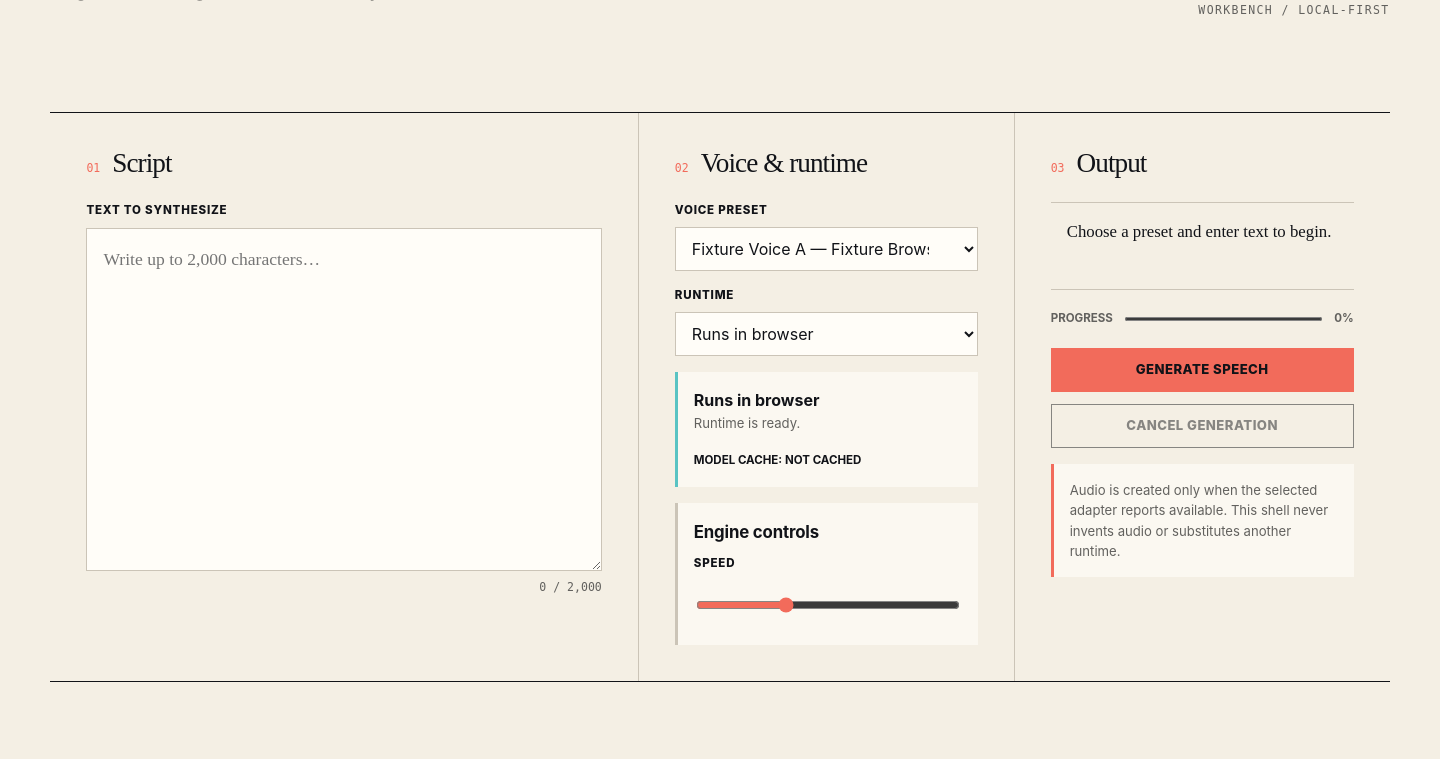
Test: managed output URL lifecycle › clears and revokes an old output before a new operation that is cancelled
(page scrolled)
expect the text "Runtime is ready." is shown: met, box [694, 415, 800, 431]
Type "Cancel later." into the text box labelled "Text to synthesize". click: (344, 400)
box: [86, 228, 602, 571]
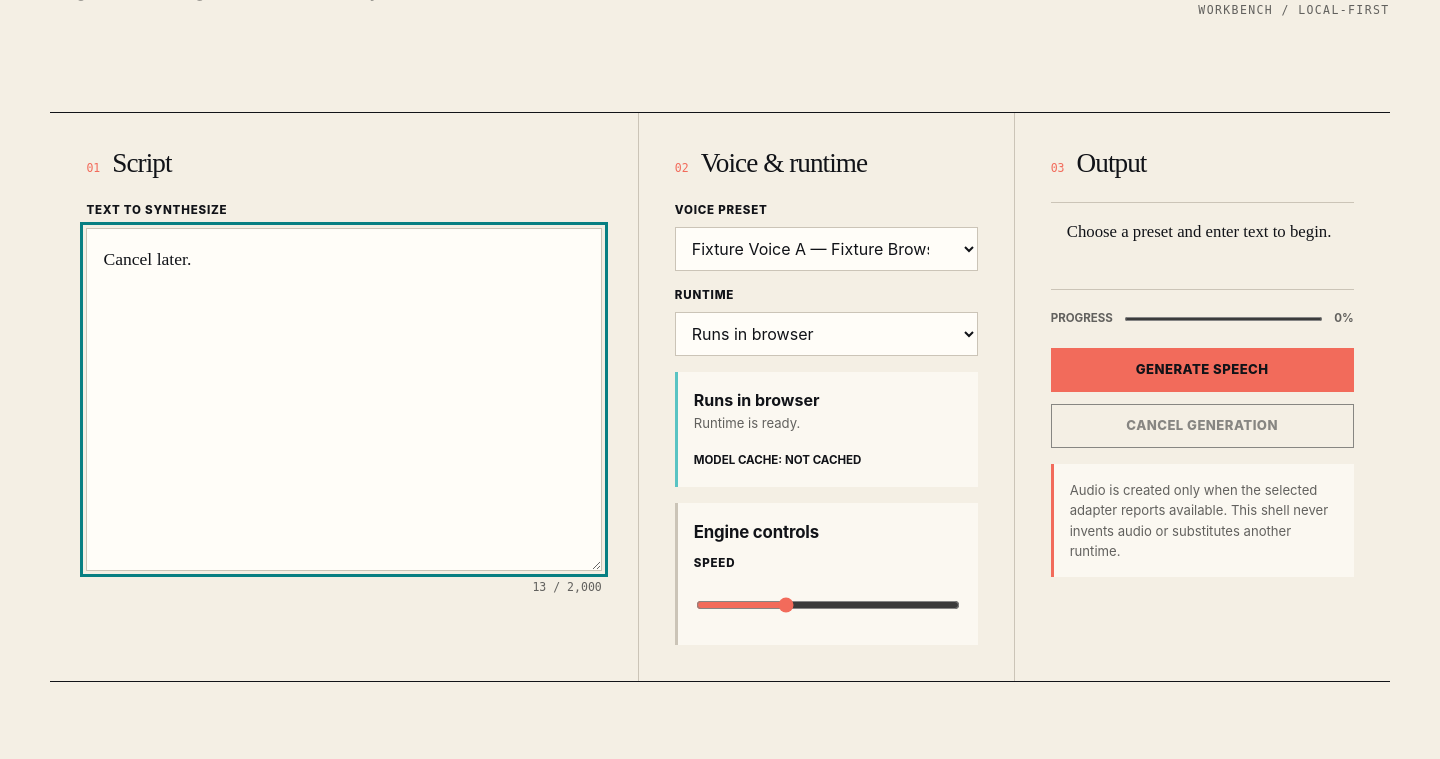
Click the button "Generate speech". click: click(1202, 370)
box: [1051, 348, 1354, 392]
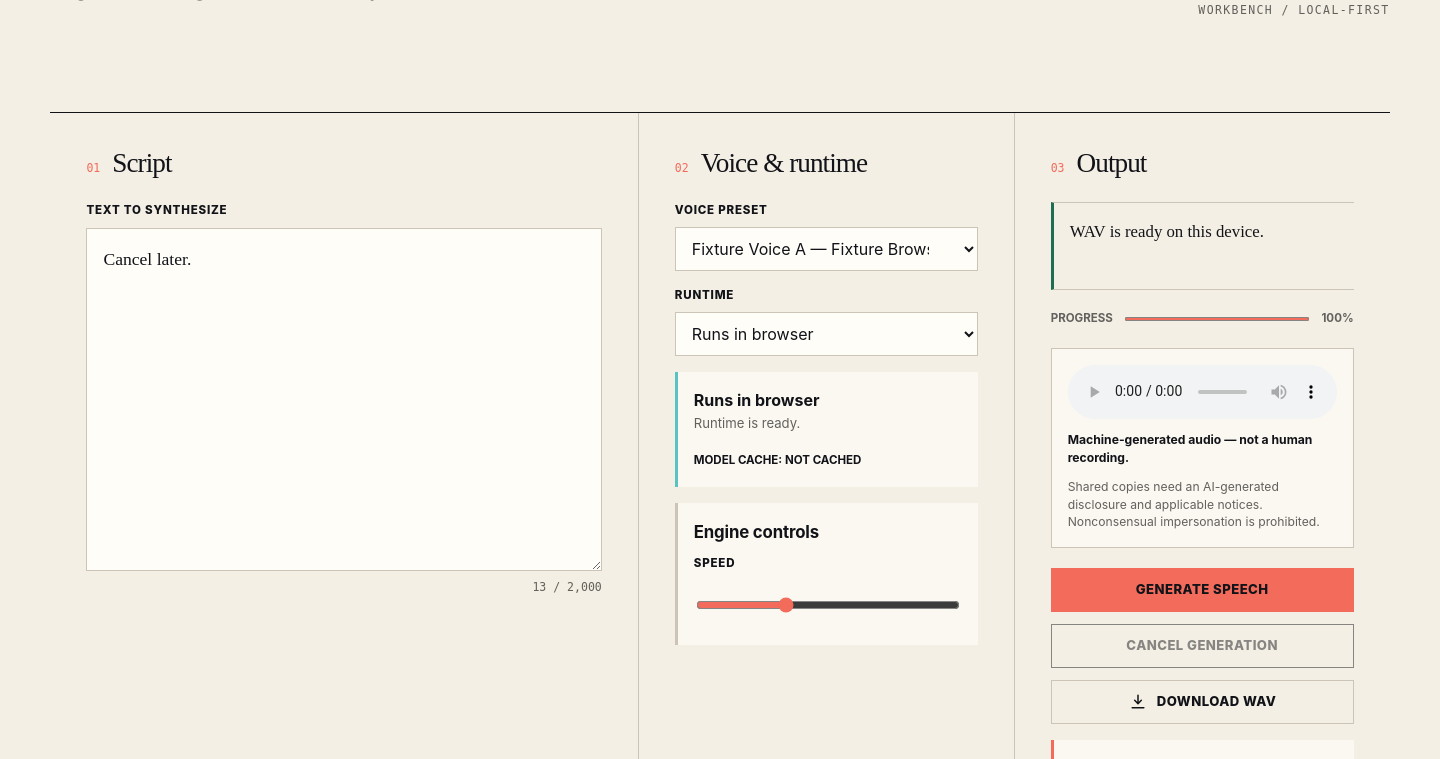
expect the element named "Generated audio" is shown: met, box [1068, 365, 1337, 419]
Click the button "Generate speech". click: click(1202, 590)
box: [1051, 568, 1354, 612]
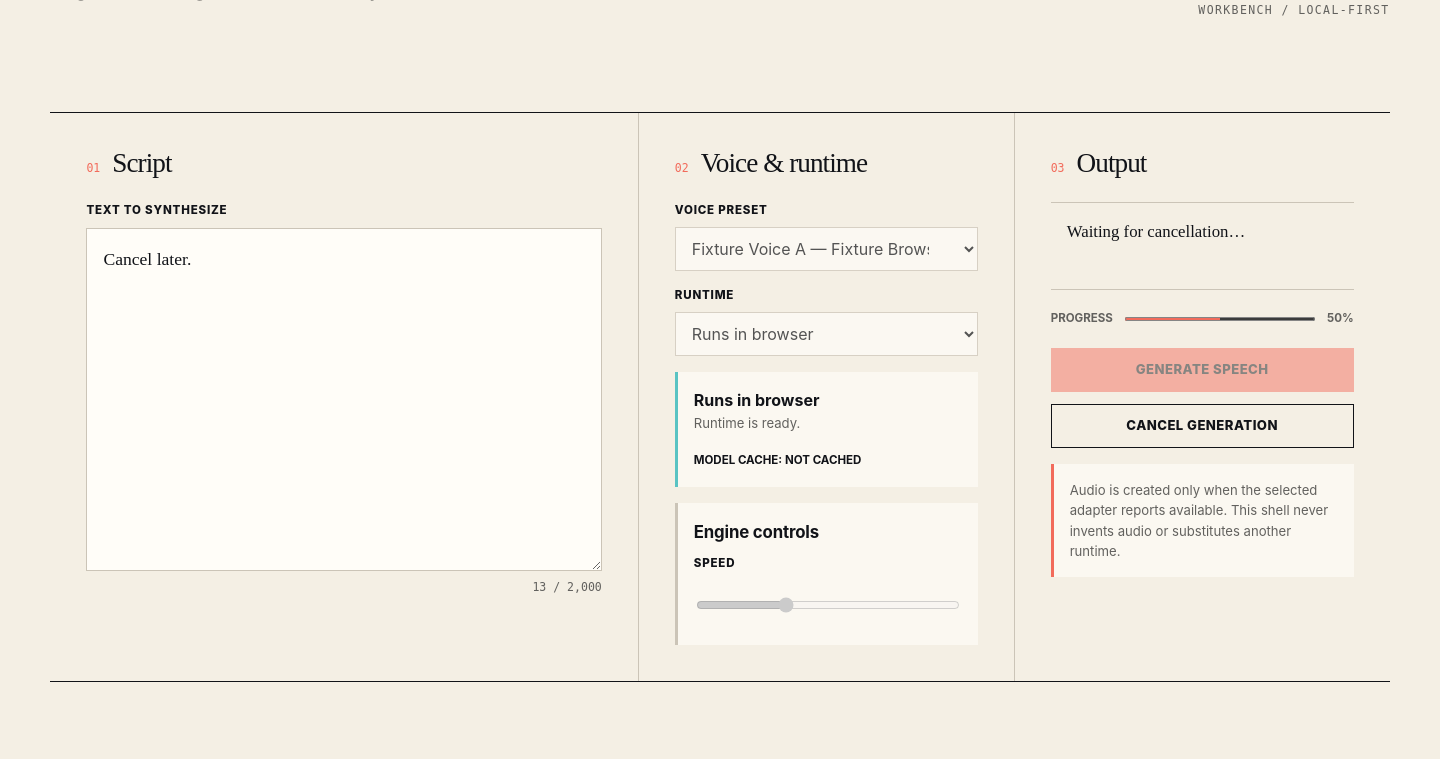
expect the message named "Generation status" reads "Waiting for cancellation…": met, box [1067, 222, 1245, 241]
Click the button "Cancel generation". click: click(1202, 426)
box: [1051, 404, 1354, 448]
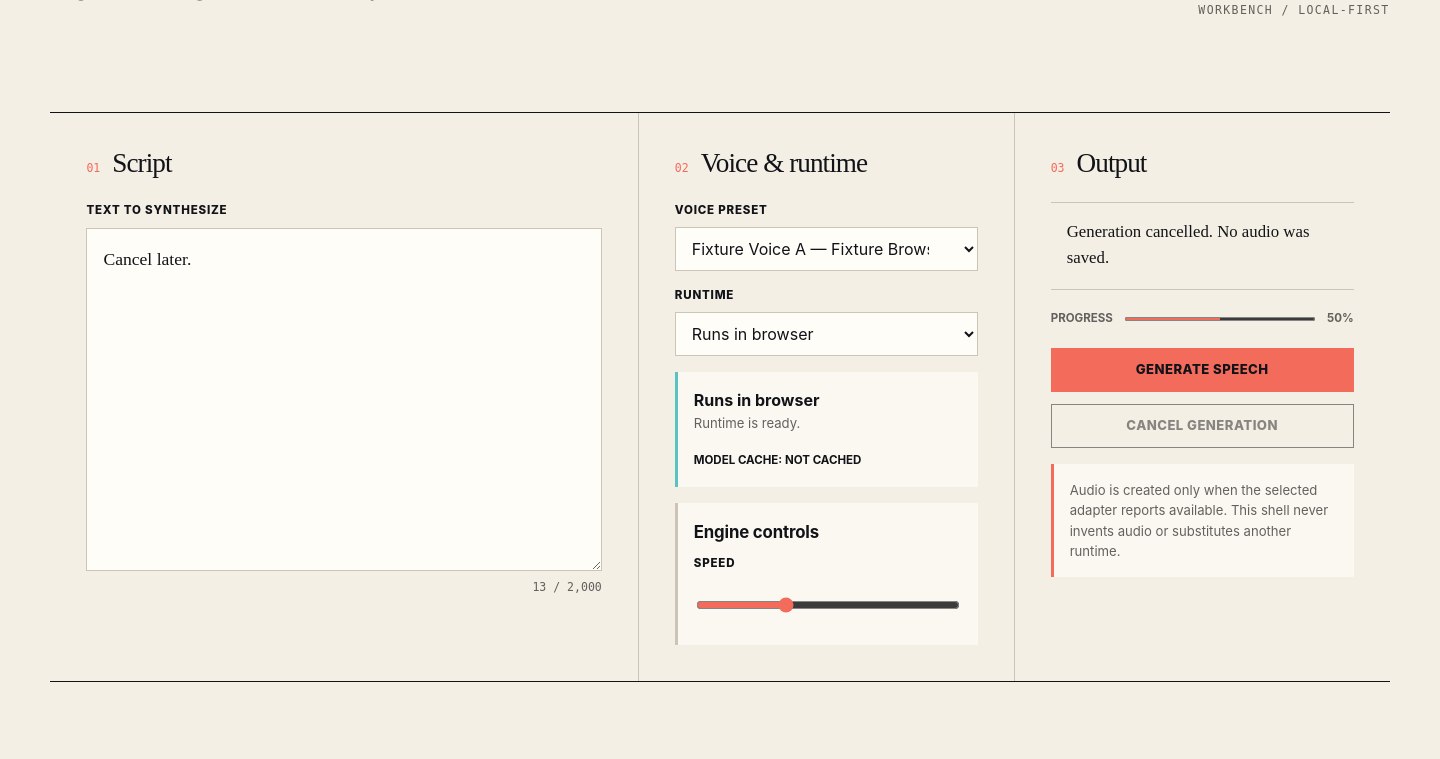
expect the message named "Generation status" shows "Generation cancelled.": met, box [1067, 222, 1310, 267]
